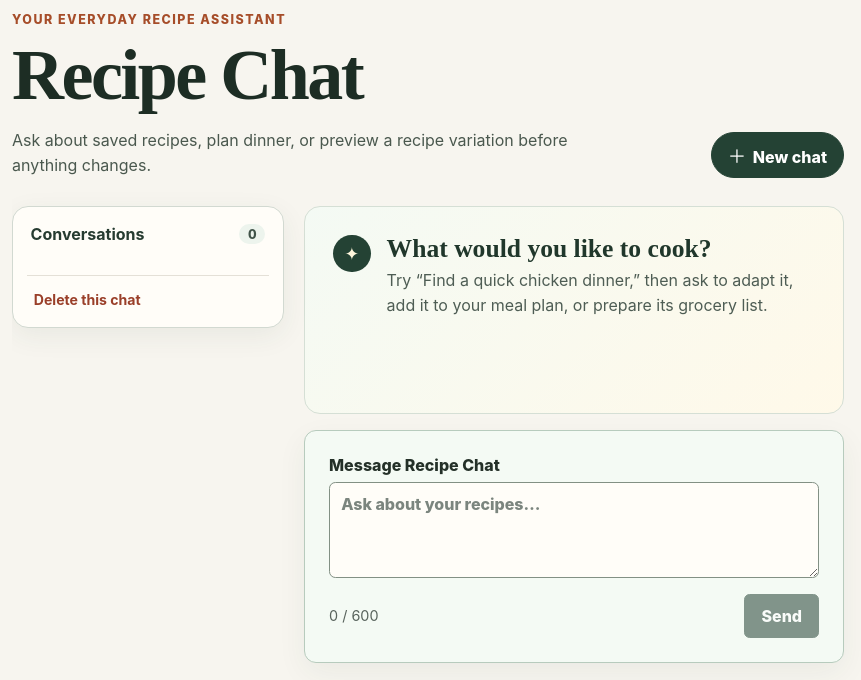
Test: stops an in-flight streamed turn
Type "Find shrimp" into the text box labelled "Message Recipe Chat" at (574, 530), box x1=329 y1=482 x2=819 y2=578
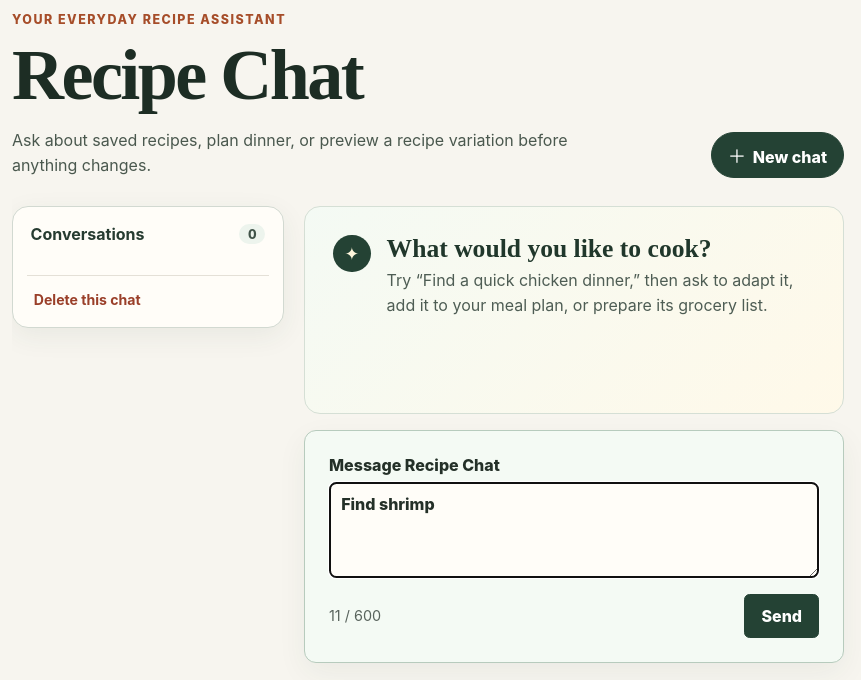
Click the button "Send" at (782, 616), box x1=744 y1=594 x2=819 y2=638
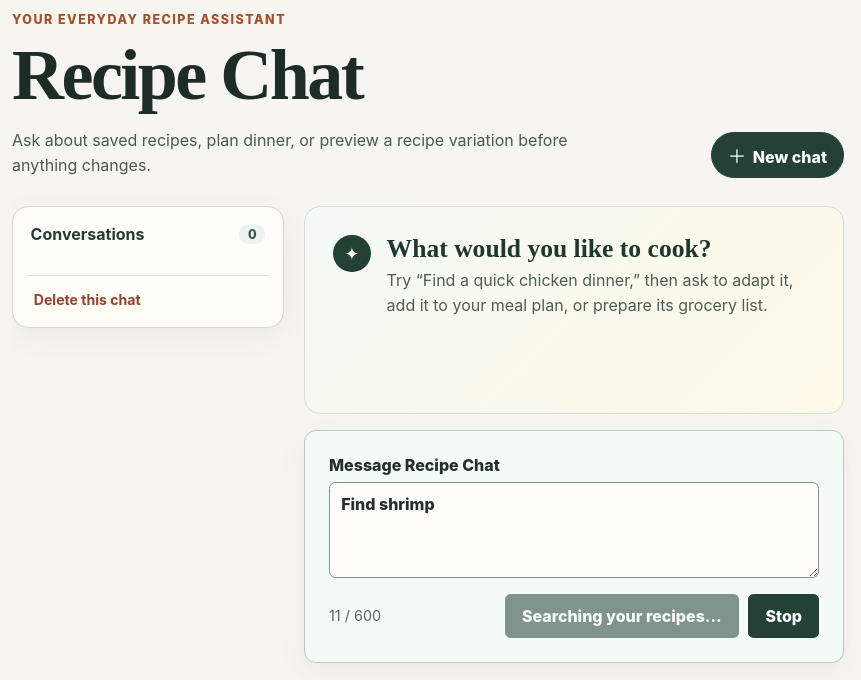
Click the button "Stop" at (784, 616), box x1=748 y1=594 x2=819 y2=638
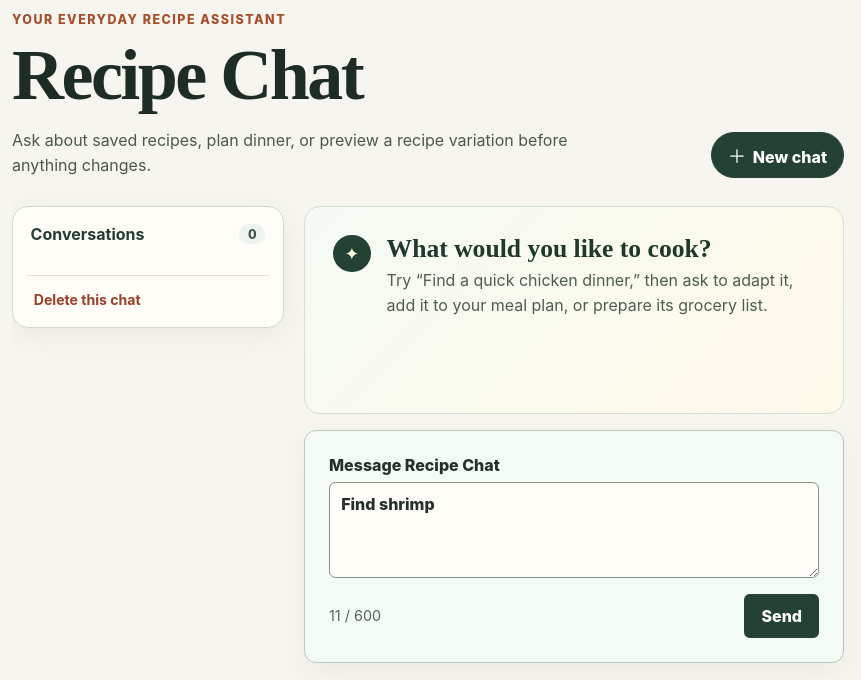
Expected: the button "Send" is enabled, x1=744 y1=594 x2=819 y2=638
